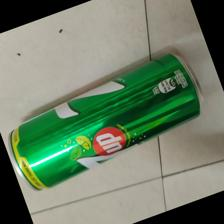7up: (7, 52, 205, 191)
